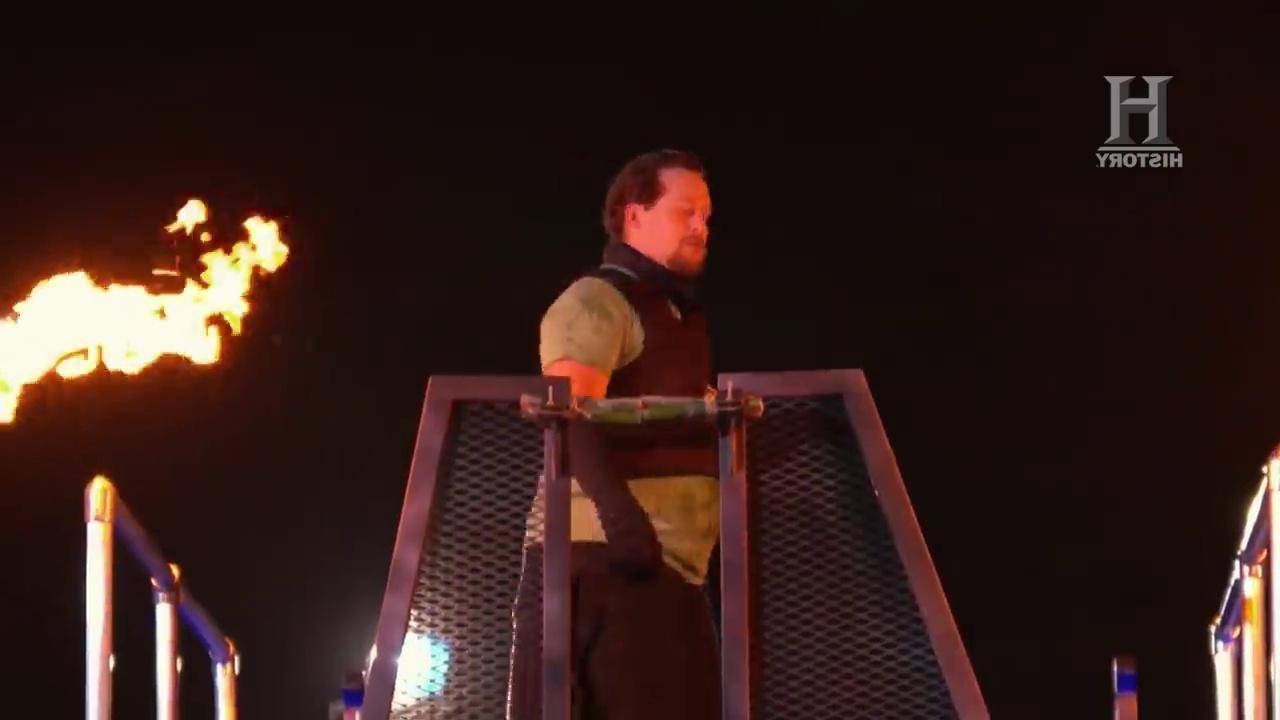Fire: (1, 181, 293, 426)
